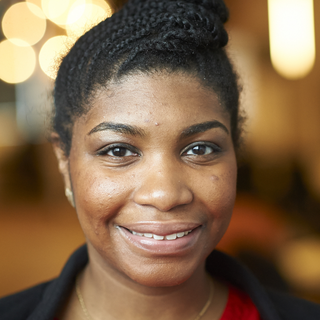eye: (88, 140, 145, 164), (177, 138, 225, 162)
